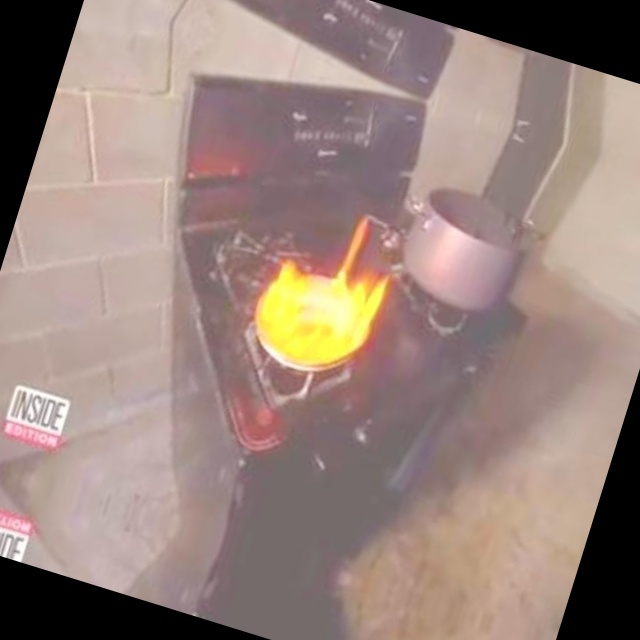fire: (229, 207, 426, 417)
